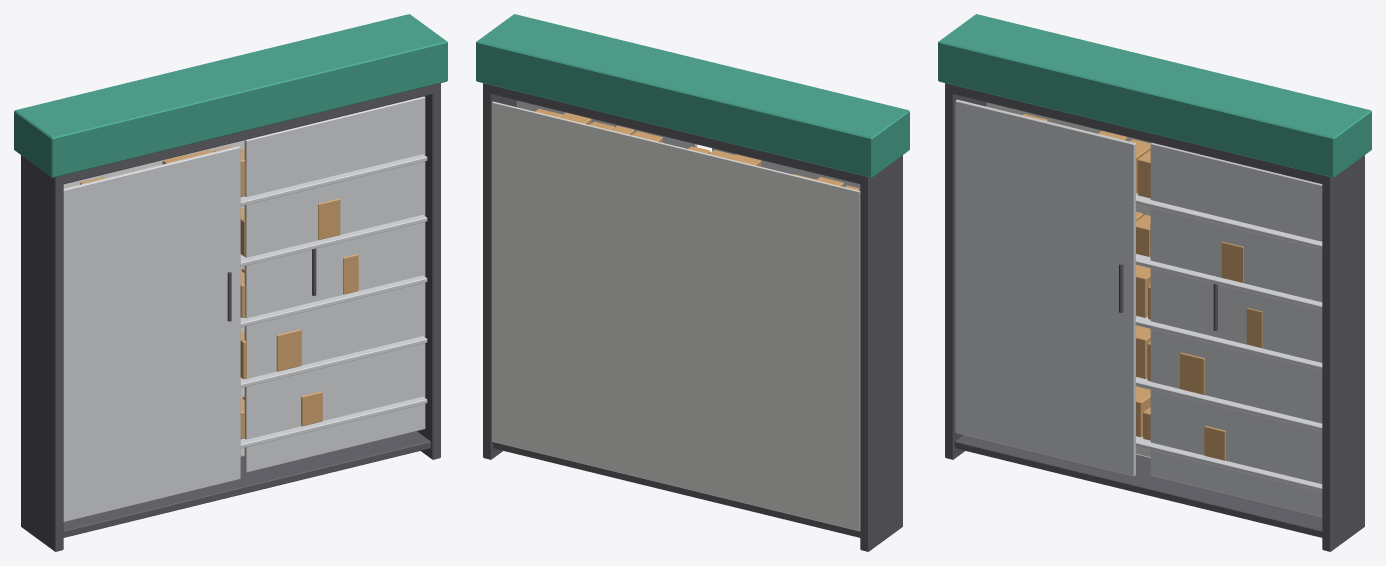
The model's file is petrol-station-and-forecourt-shop-cigarette-gantry-521fef7f__33967.glb.
The picture shows the model from 3 angles, left to right: view 1: azimuth 30°, elevation 25°; view 2: azimuth 150°, elevation 25°; view 3: azimuth 330°, elevation 25°; orthographic projection.
Parts seen in each view (by area): view 1: cigarette-gantry, gantry-door/metal; view 2: cigarette-gantry, gantry-door/metal; view 3: cigarette-gantry, gantry-door/metal.
Part boxes in pixels (left/top/right/bottom): cigarette-gantry: left=14, top=14, right=447, bottom=551; gantry-door/metal: left=63, top=146, right=240, bottom=521; cigarette-gantry: left=476, top=14, right=909, bottom=551; gantry-door/metal: left=712, top=148, right=860, bottom=190; cigarette-gantry: left=938, top=14, right=1371, bottom=551; gantry-door/metal: left=955, top=99, right=1135, bottom=476.
Size of the model in its own units: 2.26 by 2.27 by 0.3799.
